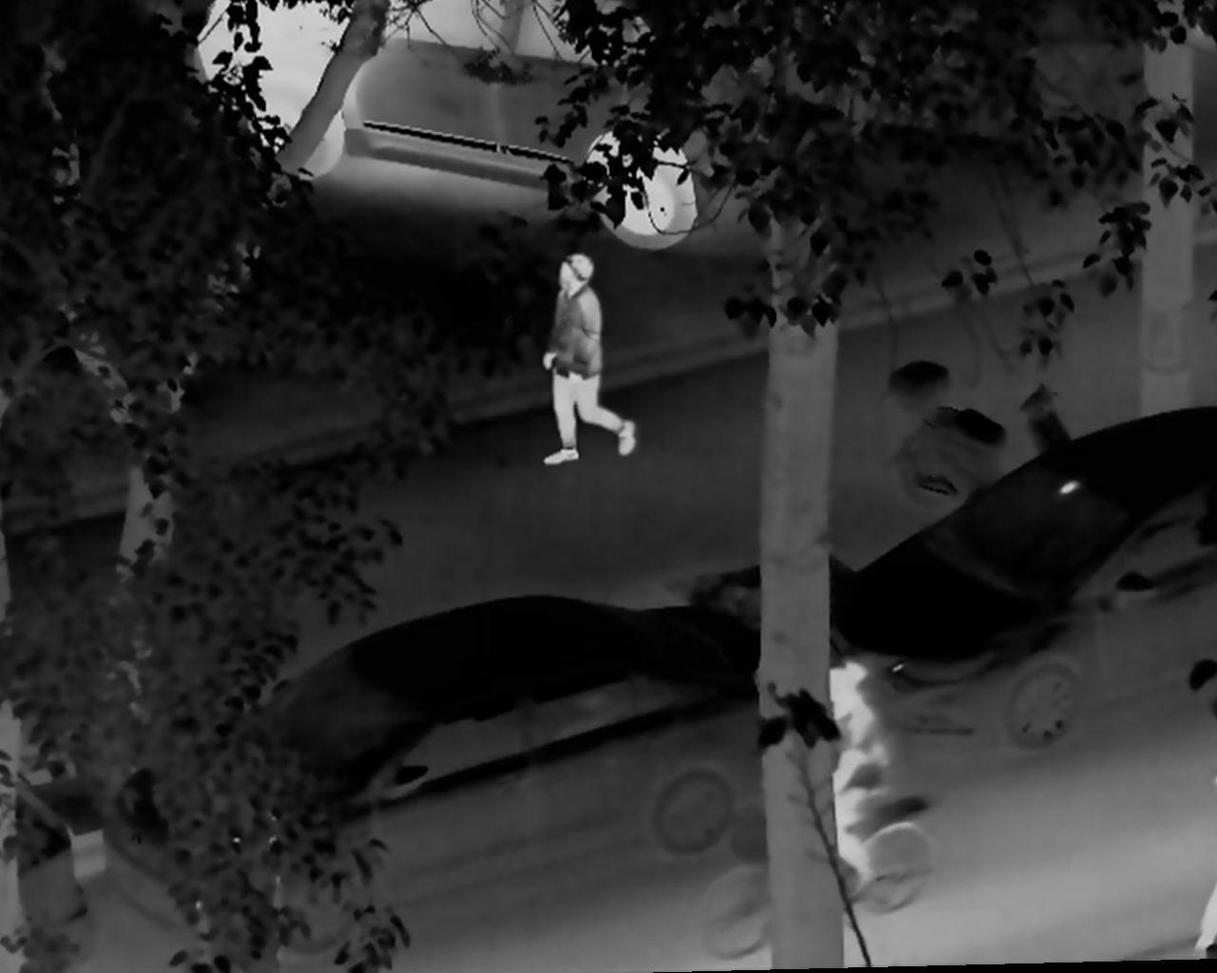person: (516, 254, 644, 479), (821, 659, 896, 887), (1186, 868, 1217, 958)
